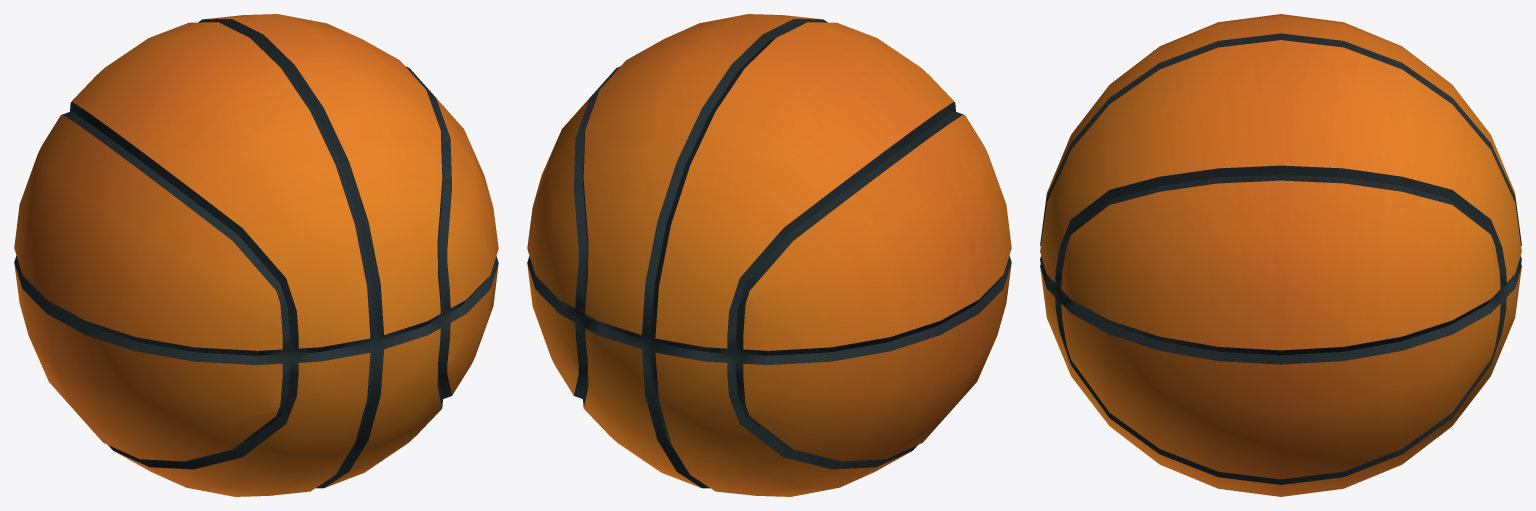
The model's file is basketboll.glb.
3 views of the same model, side by side, from view 1: azimuth 30°, elevation 25°; view 2: azimuth 150°, elevation 25°; view 3: azimuth 270°, elevation 25° (orthographic).
Parts seen in each view (by area): view 1: basketball; view 2: basketball; view 3: basketball.
Part boxes in pixels (x1,y1,x2,y2): basketball: [14, 14, 498, 496]; basketball: [527, 14, 1011, 496]; basketball: [1040, 14, 1521, 496].
Bounding box in the file's own units: 0.7383 × 0.7383 × 0.737.
Materials: 1 (1 with a texture image).
